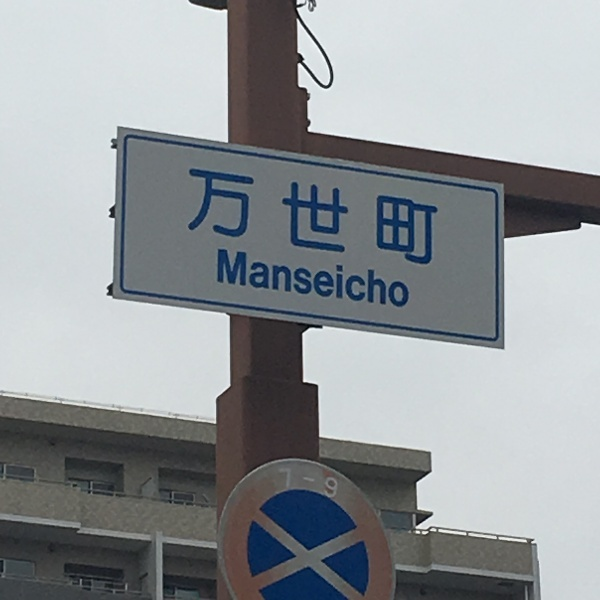text: (193, 165, 208, 267), (209, 165, 224, 267), (225, 165, 240, 267), (241, 165, 256, 267), (257, 165, 272, 267), (273, 165, 288, 267), (289, 165, 304, 267), (305, 165, 320, 267), (321, 165, 336, 267), (337, 165, 352, 267), (353, 165, 368, 267), (369, 165, 384, 267), (385, 165, 400, 267), (401, 165, 416, 267), (417, 165, 432, 267), (225, 249, 240, 310), (241, 249, 256, 310), (257, 249, 272, 310), (273, 249, 288, 310), (289, 249, 304, 310), (305, 249, 320, 310), (321, 249, 336, 310), (337, 249, 352, 310), (353, 249, 368, 310), (369, 249, 384, 310), (385, 249, 400, 310), (433, 165, 439, 267), (401, 249, 411, 310), (289, 466, 304, 501), (305, 466, 320, 501), (321, 466, 336, 501), (188, 165, 192, 267), (218, 249, 224, 310), (278, 466, 288, 501), (337, 466, 339, 501)
